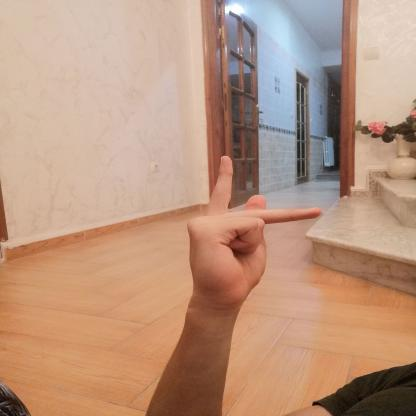DHAA: (175, 146, 329, 312)
